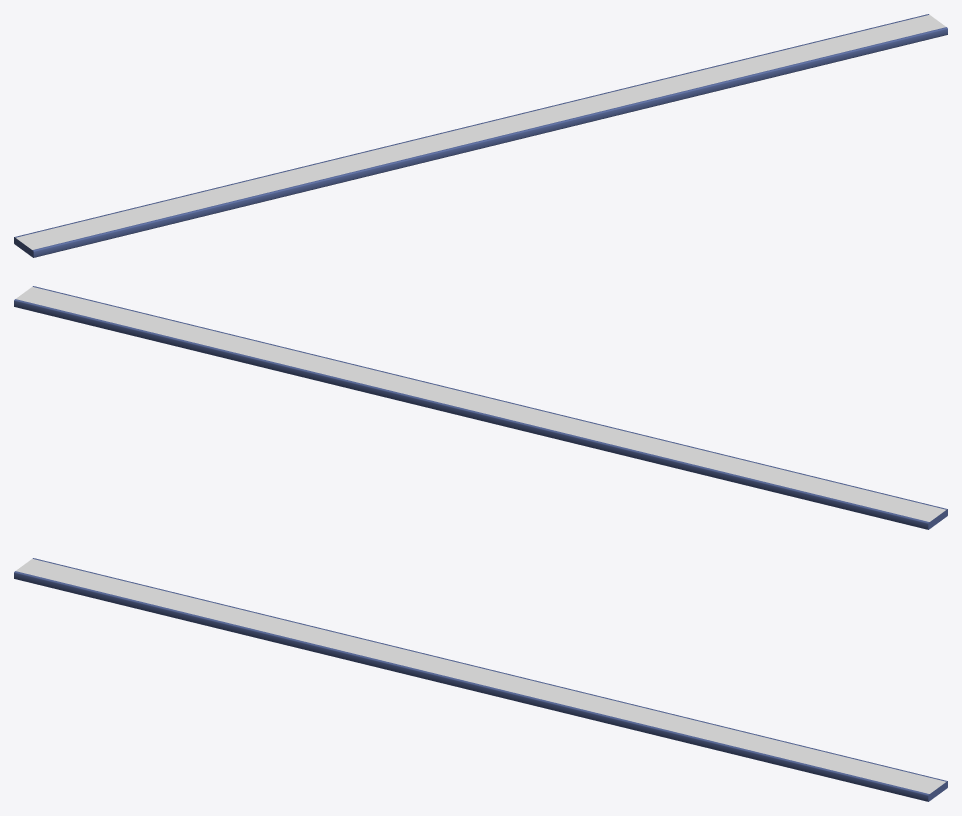
File: eskalator.fbx
The picture shows the model from 3 angles, top to bottom: view 1: azimuth 30°, elevation 25°; view 2: azimuth 150°, elevation 25°; view 3: azimuth 330°, elevation 25°; orthographic projection.
Parts seen in each view (by area): view 1: Cube.031; view 2: Cube.031; view 3: Cube.031.
Boxes of the visible parts, left/top/right/bottom form: Cube.031: left=14, top=14, right=947, bottom=257; Cube.031: left=14, top=286, right=947, bottom=529; Cube.031: left=14, top=558, right=947, bottom=801.
Bounding box in the file's own units: 5.03 × 0.0373 × 0.1882.
